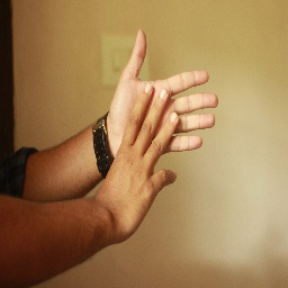M: (96, 27, 222, 194)
